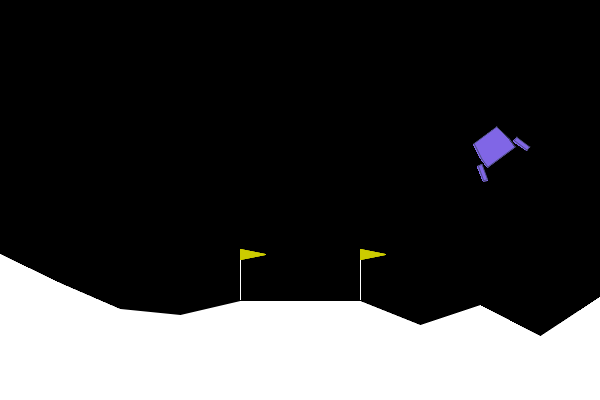lander: (460, 116, 532, 184)
